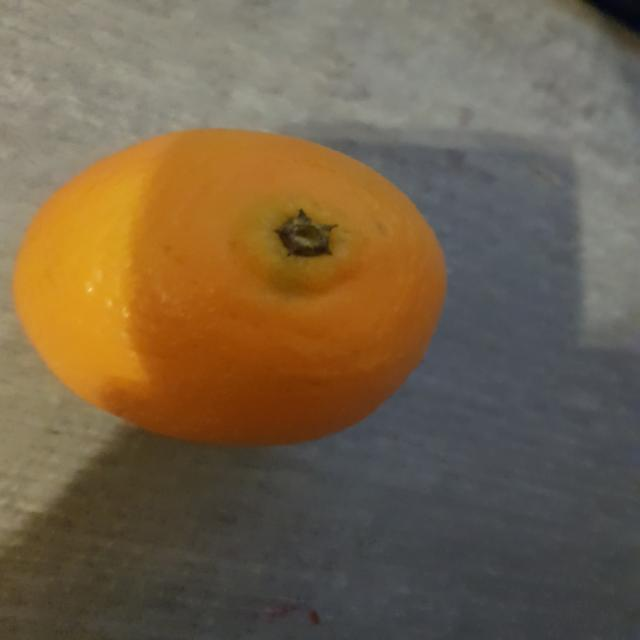Orange: (11, 128, 447, 450)
